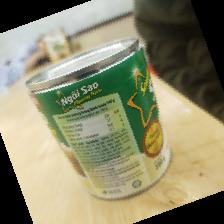NSPN_Lon: (26, 37, 173, 202)
